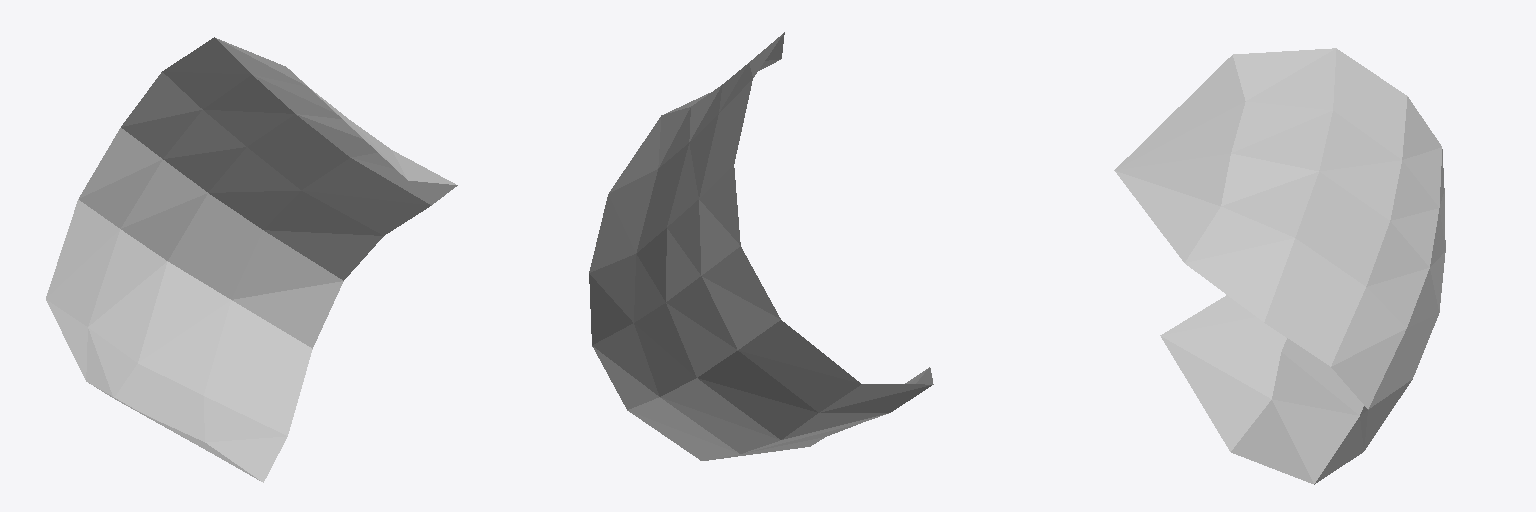
The model's file is coude_gauche.obj.
The picture shows the model from 3 angles: view 1: azimuth 30°, elevation 25°; view 2: azimuth 150°, elevation 25°; view 3: azimuth 270°, elevation 25°; orthographic projection.
Visible parts, largest first — view 1: Soi_SimpleArmor.002_Plane.014; view 2: Soi_SimpleArmor.002_Plane.014; view 3: Soi_SimpleArmor.002_Plane.014.
Boxes of the visible parts, box(x1,y1,x2,y2) form: Soi_SimpleArmor.002_Plane.014: box(46, 37, 457, 482); Soi_SimpleArmor.002_Plane.014: box(589, 32, 933, 460); Soi_SimpleArmor.002_Plane.014: box(1114, 48, 1445, 484).
Bounding box in the file's own units: 0.0948 × 0.1106 × 0.0811.